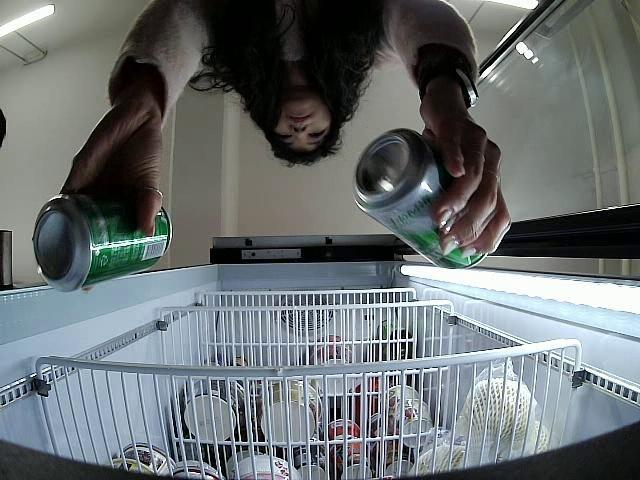12_chilsungCider: (351, 128, 488, 271), (33, 193, 172, 290)
